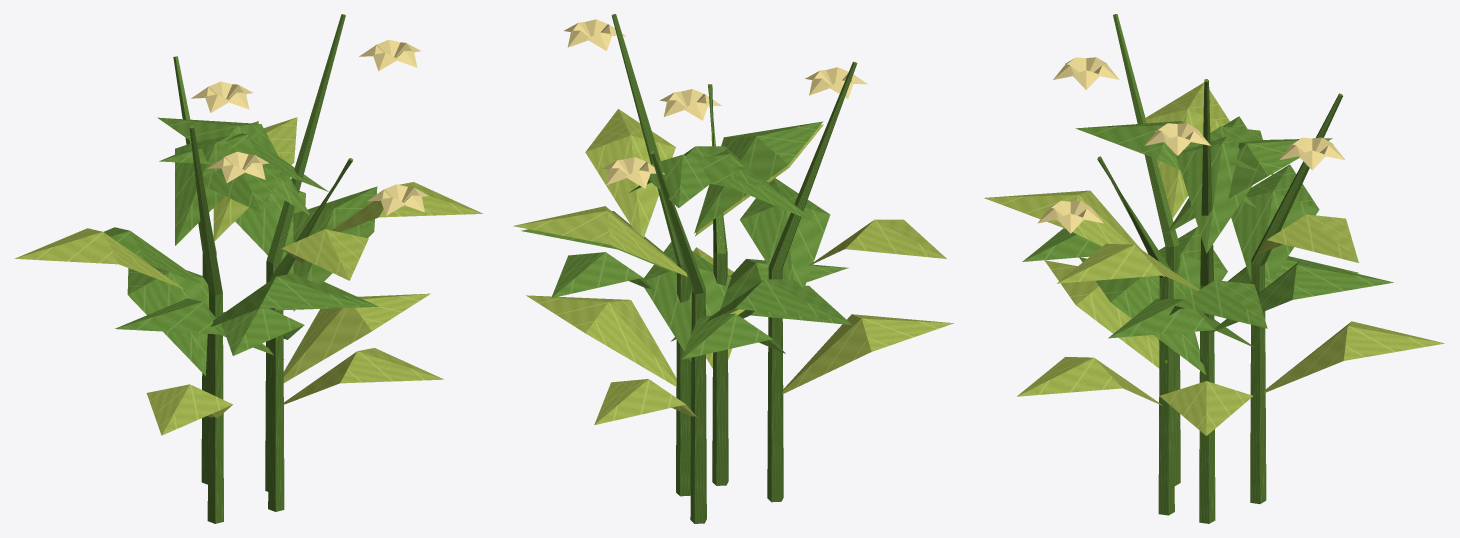
The model's file is crop-herbs-ready.glb.
3 renders of one model, left to right at view 1: azimuth 30°, elevation 25°; view 2: azimuth 150°, elevation 25°; view 3: azimuth 270°, elevation 25°, orthographic. The views are drawn at different scales.
Visible parts, largest first — view 1: crop-herbs-ready; view 2: crop-herbs-ready; view 3: crop-herbs-ready.
Part boxes in pixels (x1,y1,x2,y2): crop-herbs-ready: (14,14,483,523); crop-herbs-ready: (513,14,953,523); crop-herbs-ready: (984,14,1444,523).
Size of the model in its own units: 0.7829 by 0.8212 by 0.7225.
1 material, 1 textured.
